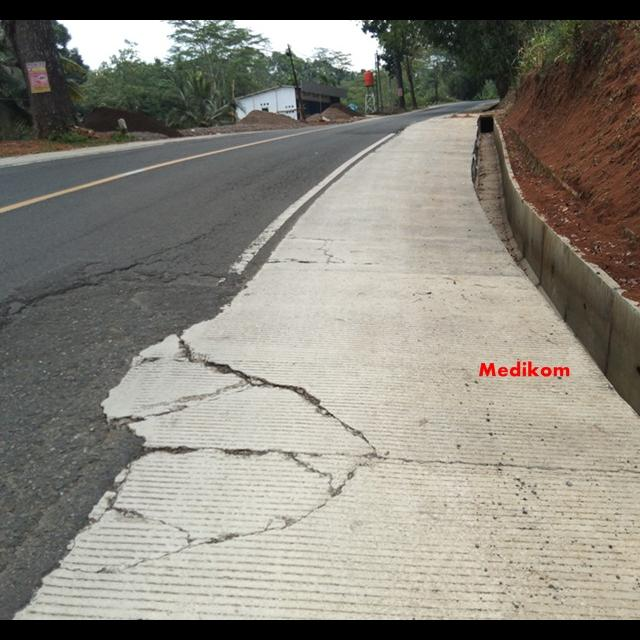retak_memanjang: (83, 320, 371, 573), (0, 225, 200, 384)
